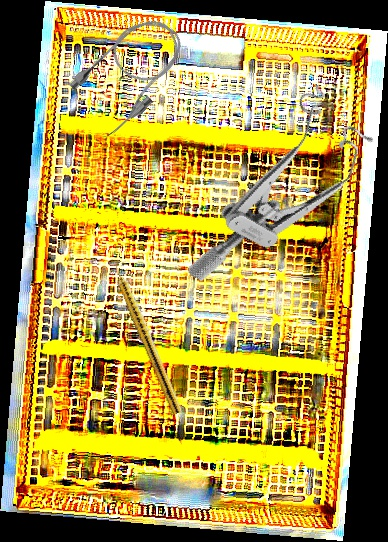Cannula: (61, 4, 200, 142)
Handpiece: (108, 258, 186, 416)
Speculum: (185, 72, 385, 322)
